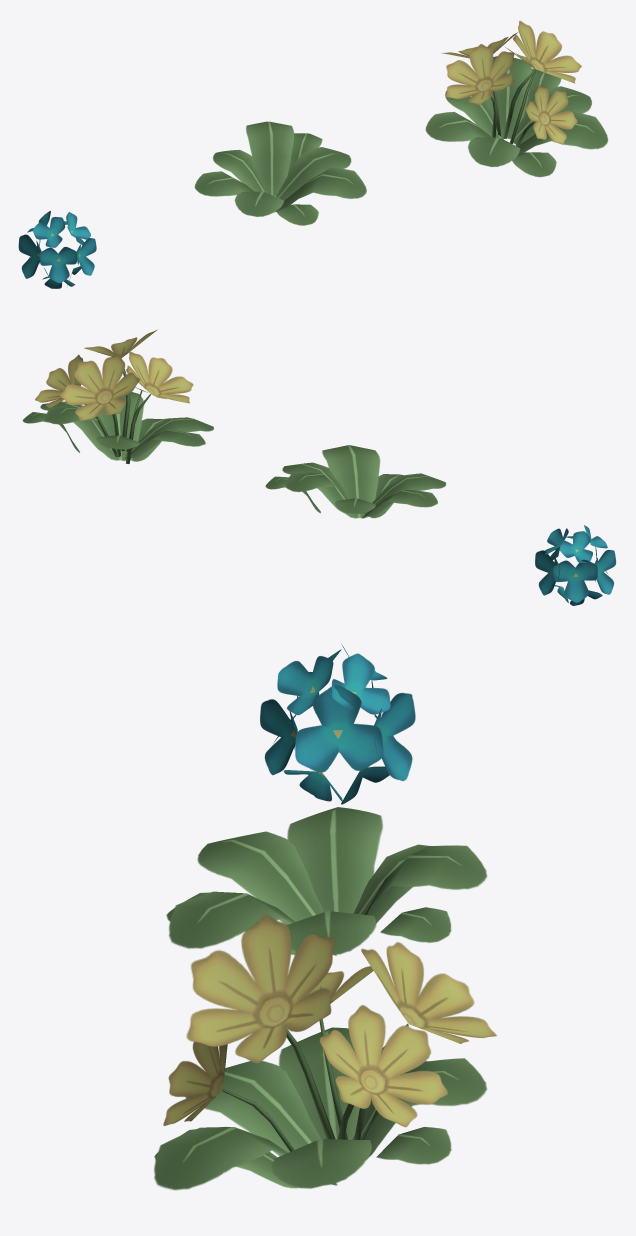
The model's file is FlowerBushes.glb.
3 views of the same model, one above another, from view 1: azimuth 30°, elevation 25°; view 2: azimuth 150°, elevation 25°; view 3: azimuth 270°, elevation 25° (orthographic). The views are drawn at different scales.
Visible parts, largest first — view 1: Plant_Flowers, Plant_2, Petals_1; view 2: Plant_Flowers, Plant_2, Petals_1; view 3: Plant_Flowers, Plant_2, Petals_1.
Part boxes in pixels (left/top/right/bottom): Plant_Flowers: left=425, top=21, right=608, bottom=177; Plant_2: left=194, top=121, right=366, bottom=225; Petals_1: left=18, top=211, right=96, bottom=288; Plant_Flowers: left=22, top=330, right=213, bottom=463; Plant_2: left=265, top=445, right=446, bottom=518; Petals_1: left=535, top=525, right=615, bottom=605; Plant_Flowers: left=154, top=914, right=496, bottom=1190; Plant_2: left=166, top=807, right=487, bottom=955; Petals_1: left=260, top=644, right=415, bottom=804.
Bounding box in the file's own units: 5 × 1.34 × 1.53.
1 material, 1 textured.
